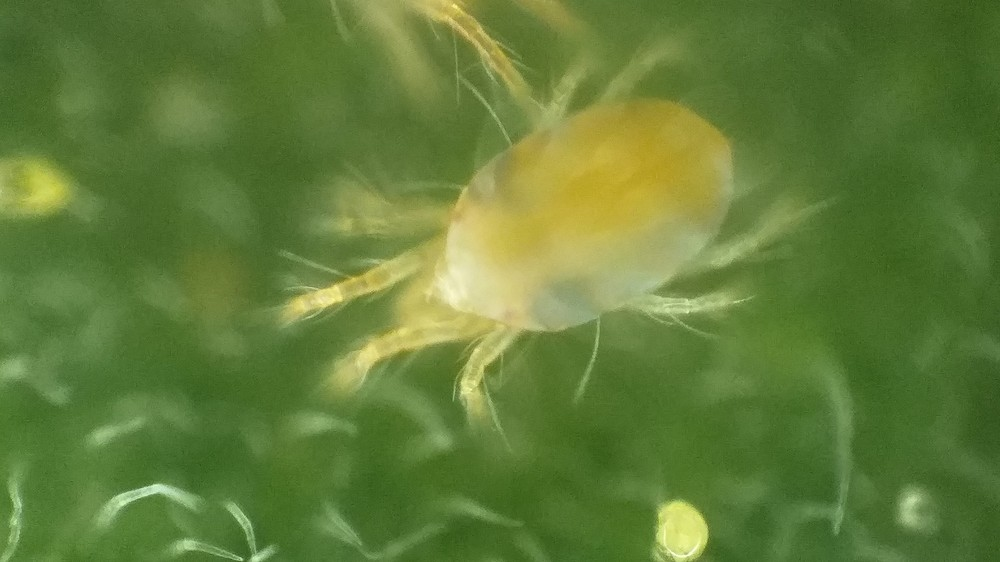Aracnido Rojo: (281, 57, 832, 430)
